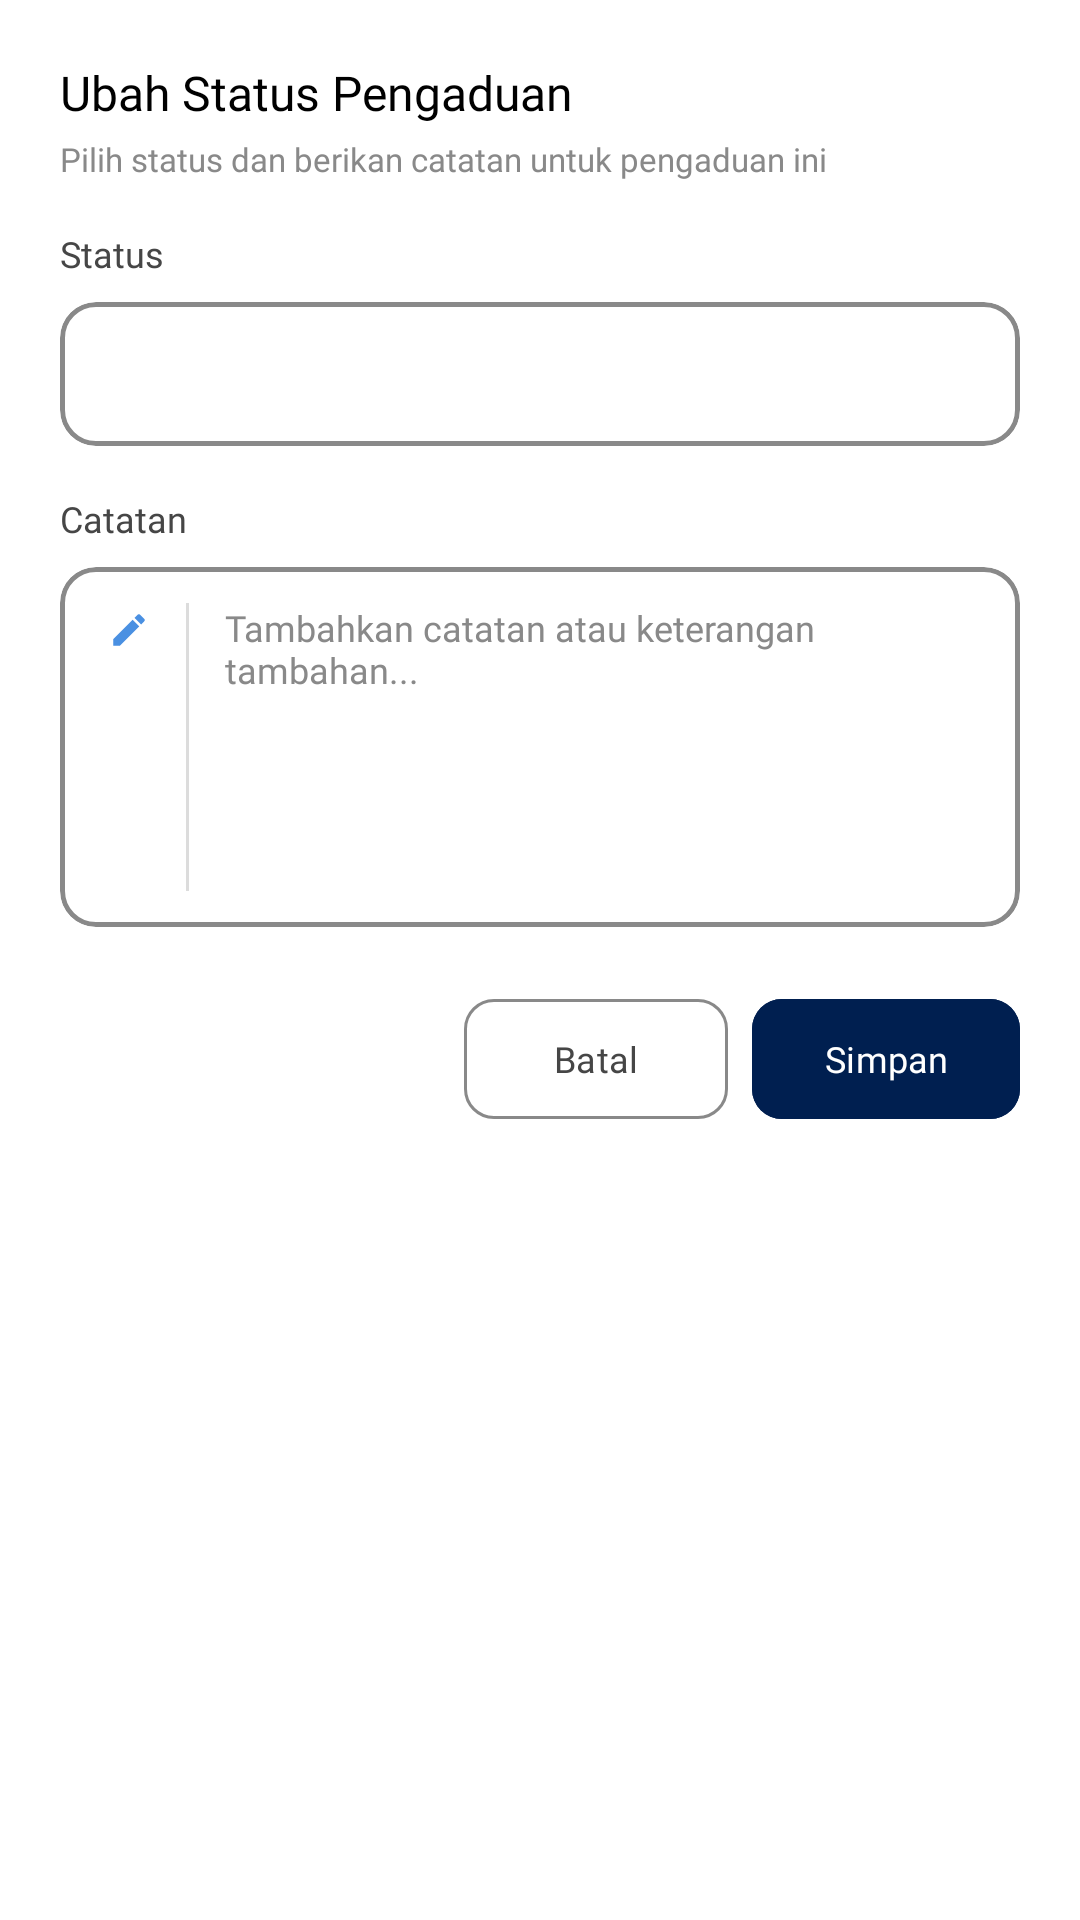

Icon bounding boxes for this 1080 x 1920 phone screenshot, format (x1,y1,x2,y2):
pencils: (113,614,145,646)
